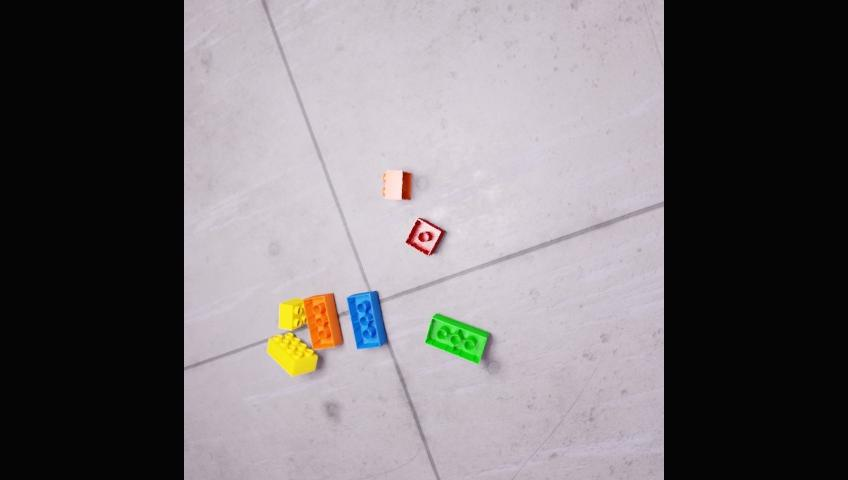2x2_orange: (381, 171, 411, 200)
2x2_red: (405, 217, 445, 255)
2x2_yellow: (279, 298, 307, 330)
4x2_blue: (346, 291, 387, 349)
4x2_green: (424, 313, 488, 364)
4x2_orange: (302, 293, 342, 349)
4x2_yellow: (266, 333, 317, 376)
